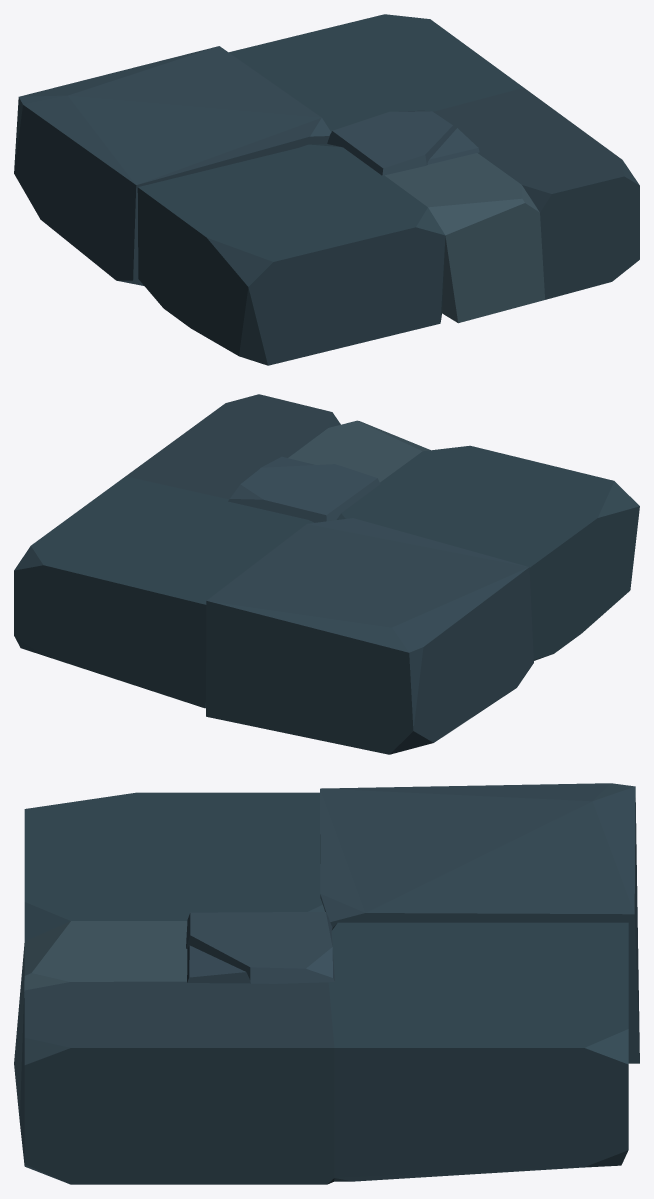
The model's file is level_element_4x4x1.fbx.
The picture shows the model from 3 angles, top to bottom: view 1: azimuth 30°, elevation 25°; view 2: azimuth 150°, elevation 25°; view 3: azimuth 270°, elevation 25°; orthographic projection. The views are drawn at different scales.
Visible parts, largest first — view 1: level_element_4x4x1; view 2: level_element_4x4x1; view 3: level_element_4x4x1.
Boxes of the visible parts, left/top/right/bottom form: level_element_4x4x1: left=14, top=14, right=639, bottom=365; level_element_4x4x1: left=14, top=394, right=639, bottom=754; level_element_4x4x1: left=14, top=783, right=639, bottom=1184.
Size of the model in its own units: 406 by 114 by 415.
